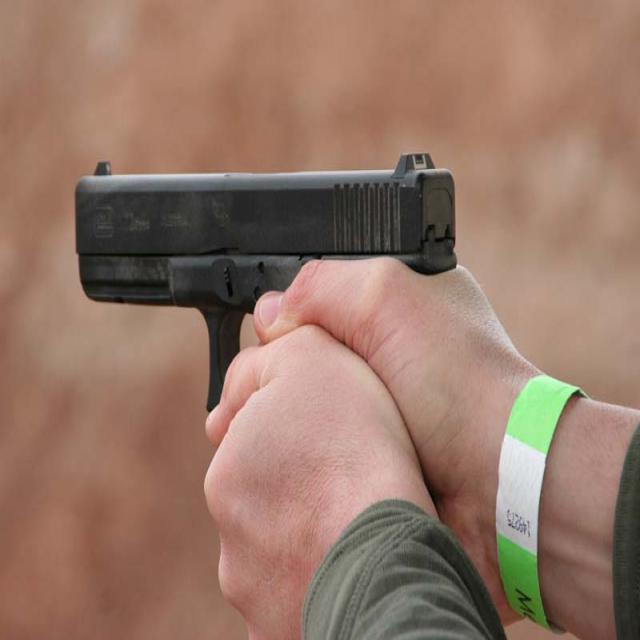HandGun: (74, 155, 457, 407)
